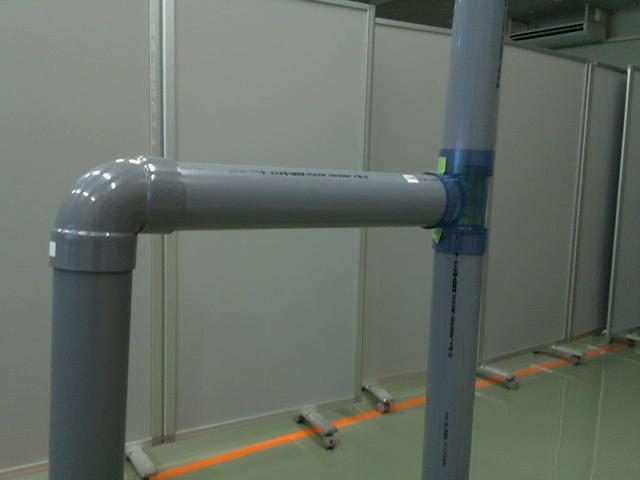bent: (54, 143, 184, 274)
junction: (424, 150, 497, 262)
